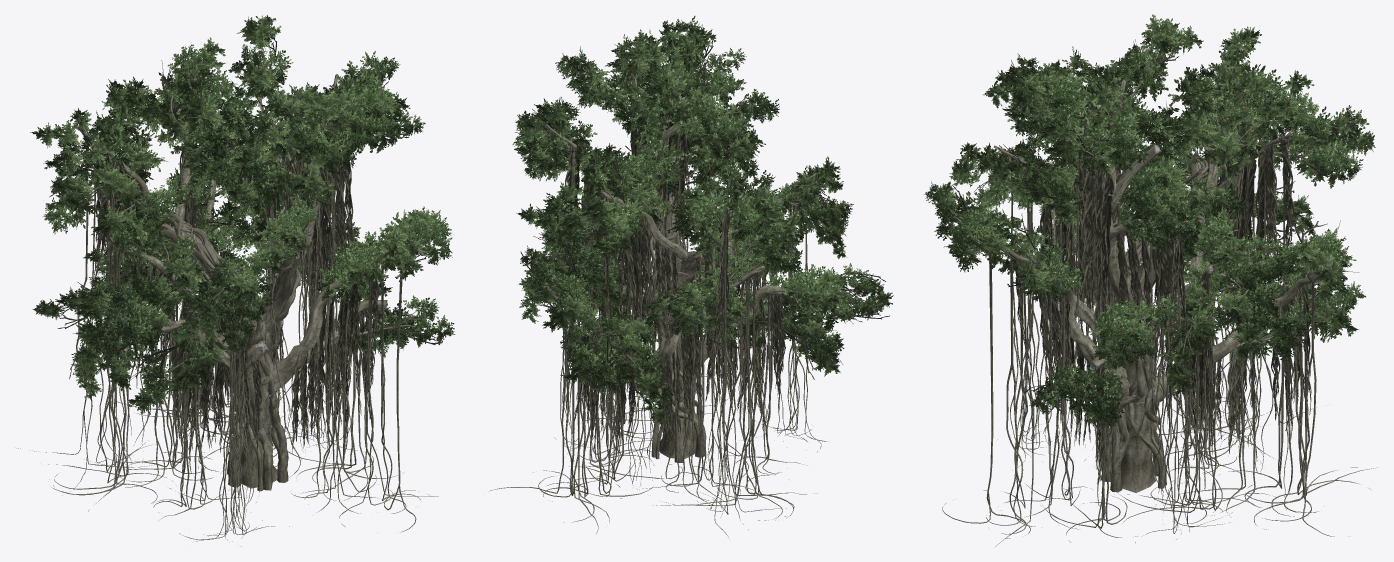
File: chinese_banyan_ficus_microcarpa.glb
The picture shows the model from 3 angles, left to right: view 1: azimuth 30°, elevation 25°; view 2: azimuth 150°, elevation 25°; view 3: azimuth 270°, elevation 25°; orthographic projection. The views are drawn at different scales.
Visible parts, largest first — view 1: ChineseBanyan_Med; view 2: ChineseBanyan_Med; view 3: ChineseBanyan_Med.
Part boxes in pixels (bbox=[...]): ChineseBanyan_Med: bbox=[18, 15, 455, 546]; ChineseBanyan_Med: bbox=[489, 16, 893, 537]; ChineseBanyan_Med: bbox=[924, 14, 1375, 546].
Size of the model in its own units: 17.83 by 20.28 by 17.67.
7 materials, 7 textured.
